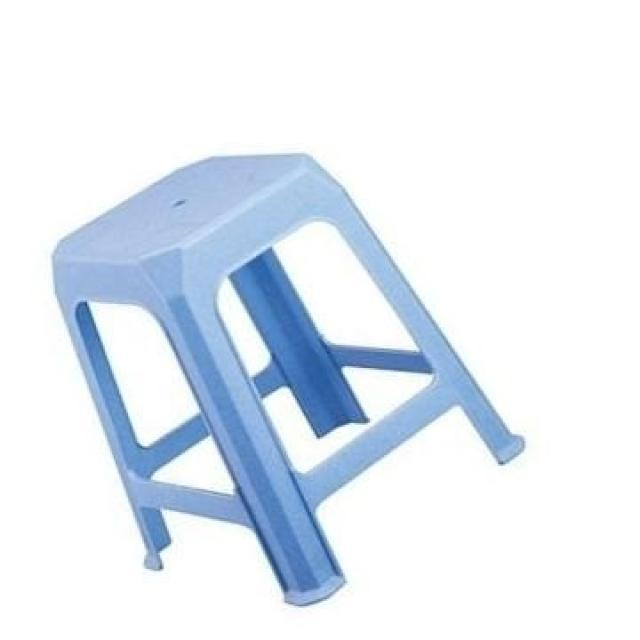chair: (50, 153, 530, 606)
